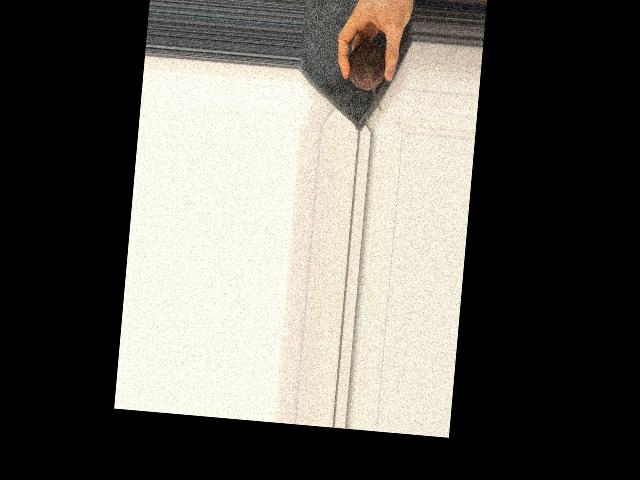beet: (344, 40, 387, 111)
